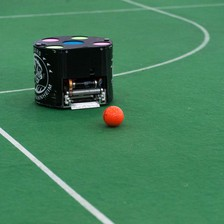ball: (100, 103, 124, 127)
robot: (31, 32, 115, 109)
